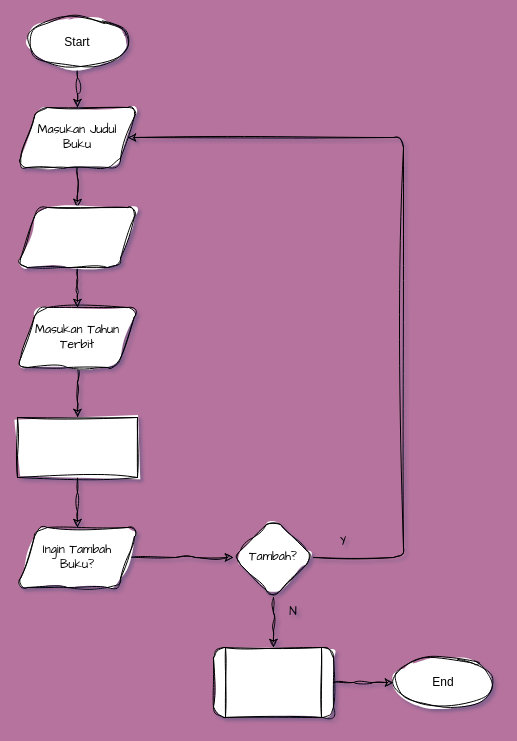
Image size: 517x741. Some labels were removed from this diagram. Each missing label, with the centre of its shape:
"Buku Berhasil Ditambahkan" goes at [77,447].
"Masukan Nama Penulis" goes at [77,237].
"Menu Utama" goes at [273,682].
